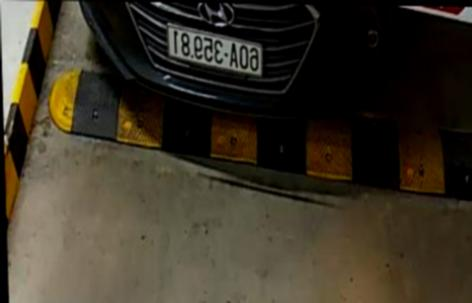License_Plate: (160, 26, 264, 86)
